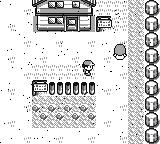leer: (96, 16, 112, 32), (32, 80, 48, 96)
main: (82, 60, 95, 76)
no-caminable: (144, 0, 160, 144), (34, 0, 94, 31), (48, 81, 95, 95)
npc: (113, 44, 127, 60)
puerta: (66, 17, 78, 32)
